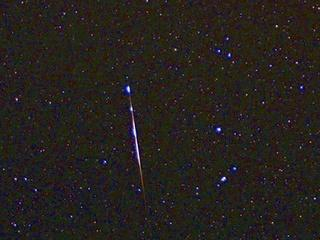meteorite: (122, 84, 154, 203)
